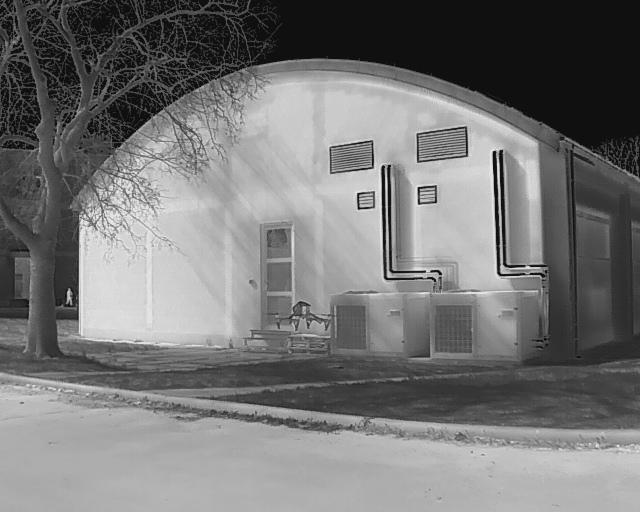drone: (260, 290, 345, 346)
